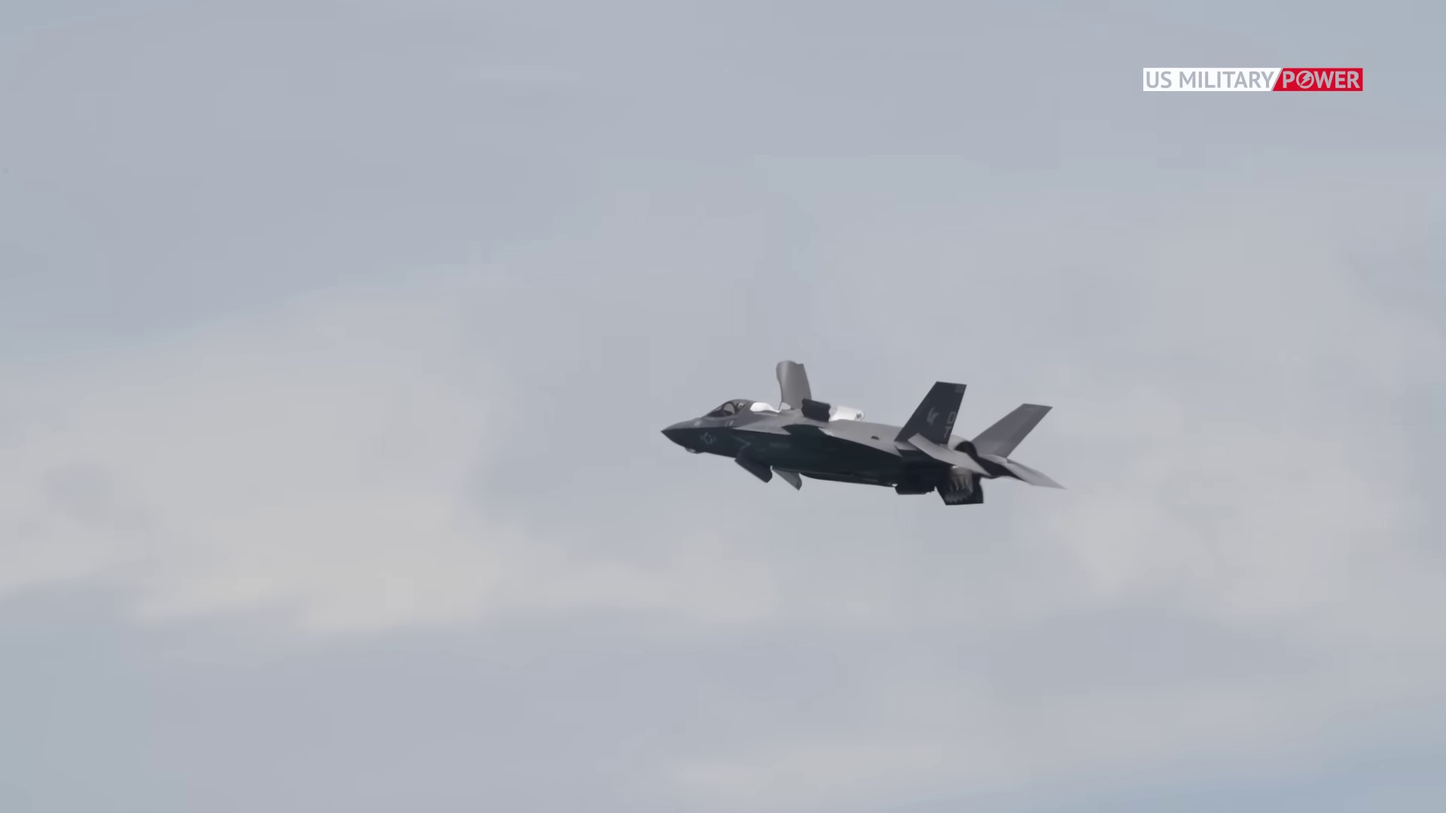F35: (651, 347, 1074, 534)
